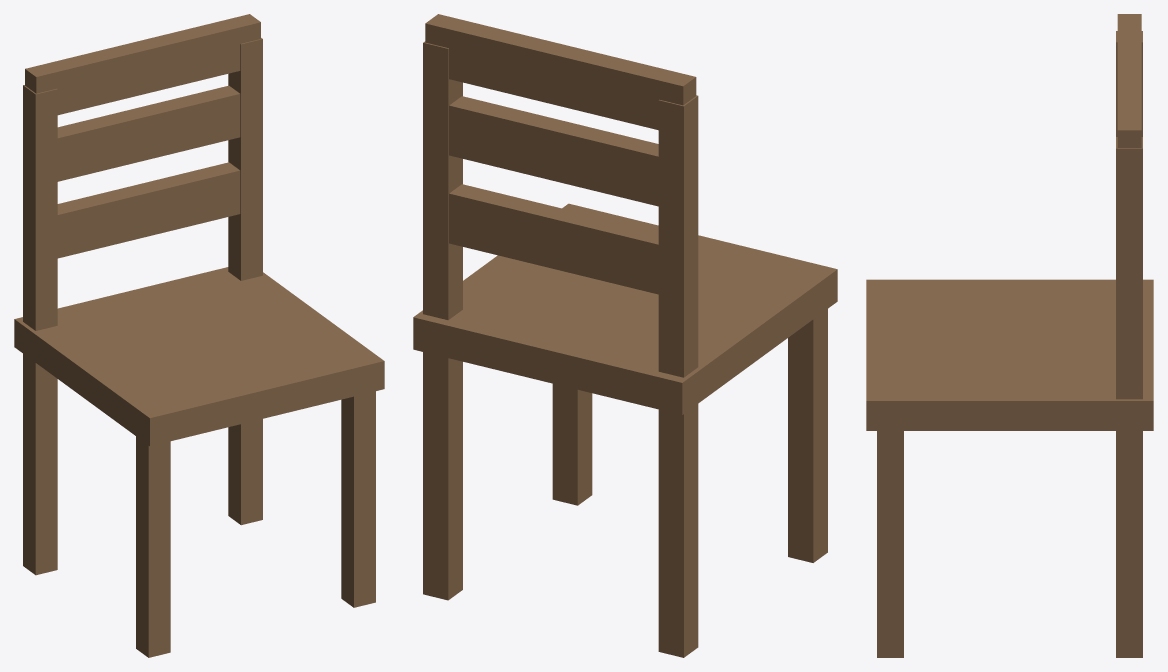
Rendered from chair.glb.
The picture shows the model from 3 angles, left to right: view 1: azimuth 30°, elevation 25°; view 2: azimuth 150°, elevation 25°; view 3: azimuth 270°, elevation 25°; orthographic projection. The views are drawn at different scales.
Parts seen in each view (by area): view 1: Деревянный стул; view 2: Деревянный стул; view 3: Деревянный стул.
Part boxes in pixels (box(x1,y1,x2,y2)): Деревянный стул: box(14, 14, 384, 657); Деревянный стул: box(413, 14, 837, 657); Деревянный стул: box(866, 14, 1153, 657).
Size of the model in its own units: 0.48 by 0.9725 by 0.48.
